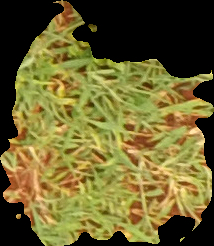grass: (1, 1, 213, 244)
